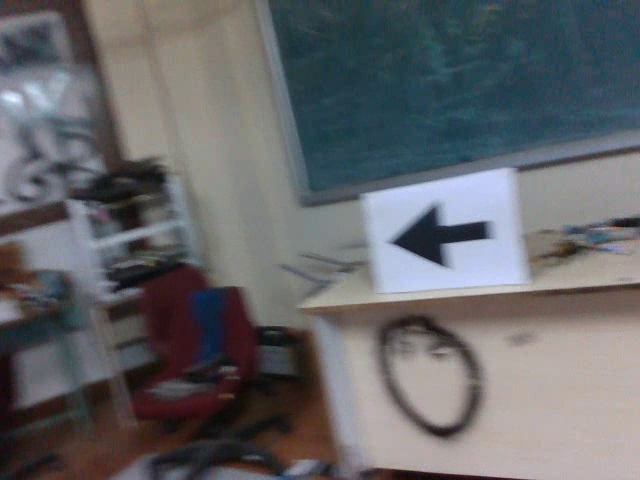Left: (385, 197, 496, 271)
